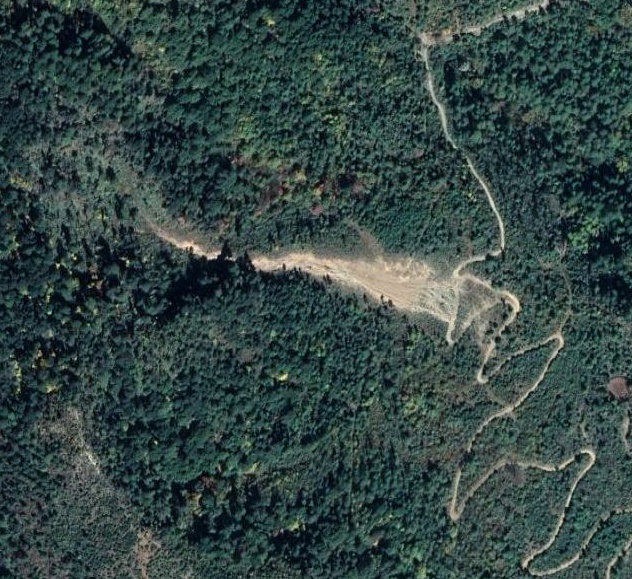slope: (161, 230, 453, 319)
